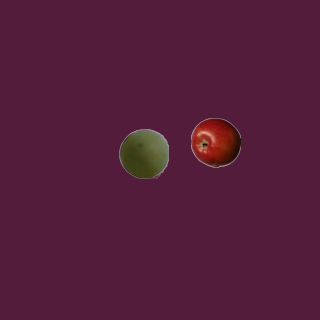Apple Braeburn: (190, 117, 240, 167)
Grape White 4: (118, 128, 168, 178)
